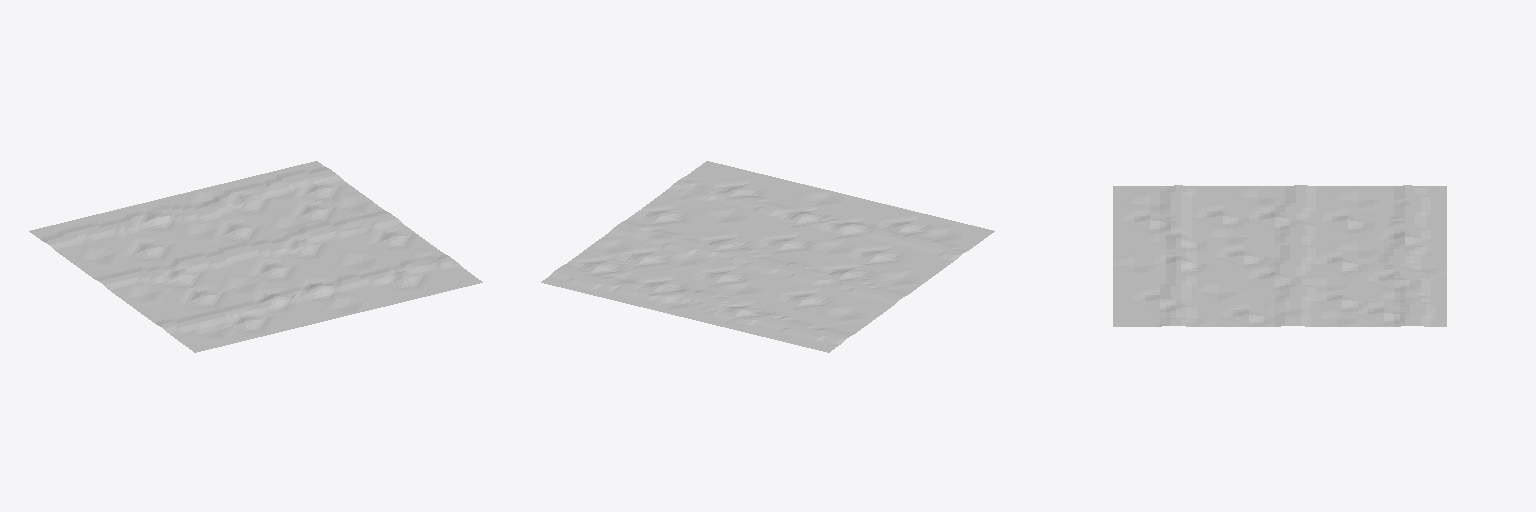
File: lake5.obj
3 renders of one model, left to right at view 1: azimuth 30°, elevation 25°; view 2: azimuth 150°, elevation 25°; view 3: azimuth 270°, elevation 25°, orthographic.
Parts seen in each view (by area): view 1: lake.005; view 2: lake.005; view 3: lake.005.
Boxes of the visible parts, <box> form: lake.005: <box>29,161,482,352</box>; lake.005: <box>541,161,994,352</box>; lake.005: <box>1113,185,1446,326</box>.
Bounding box in the file's own units: 332 × 3.73 × 332.